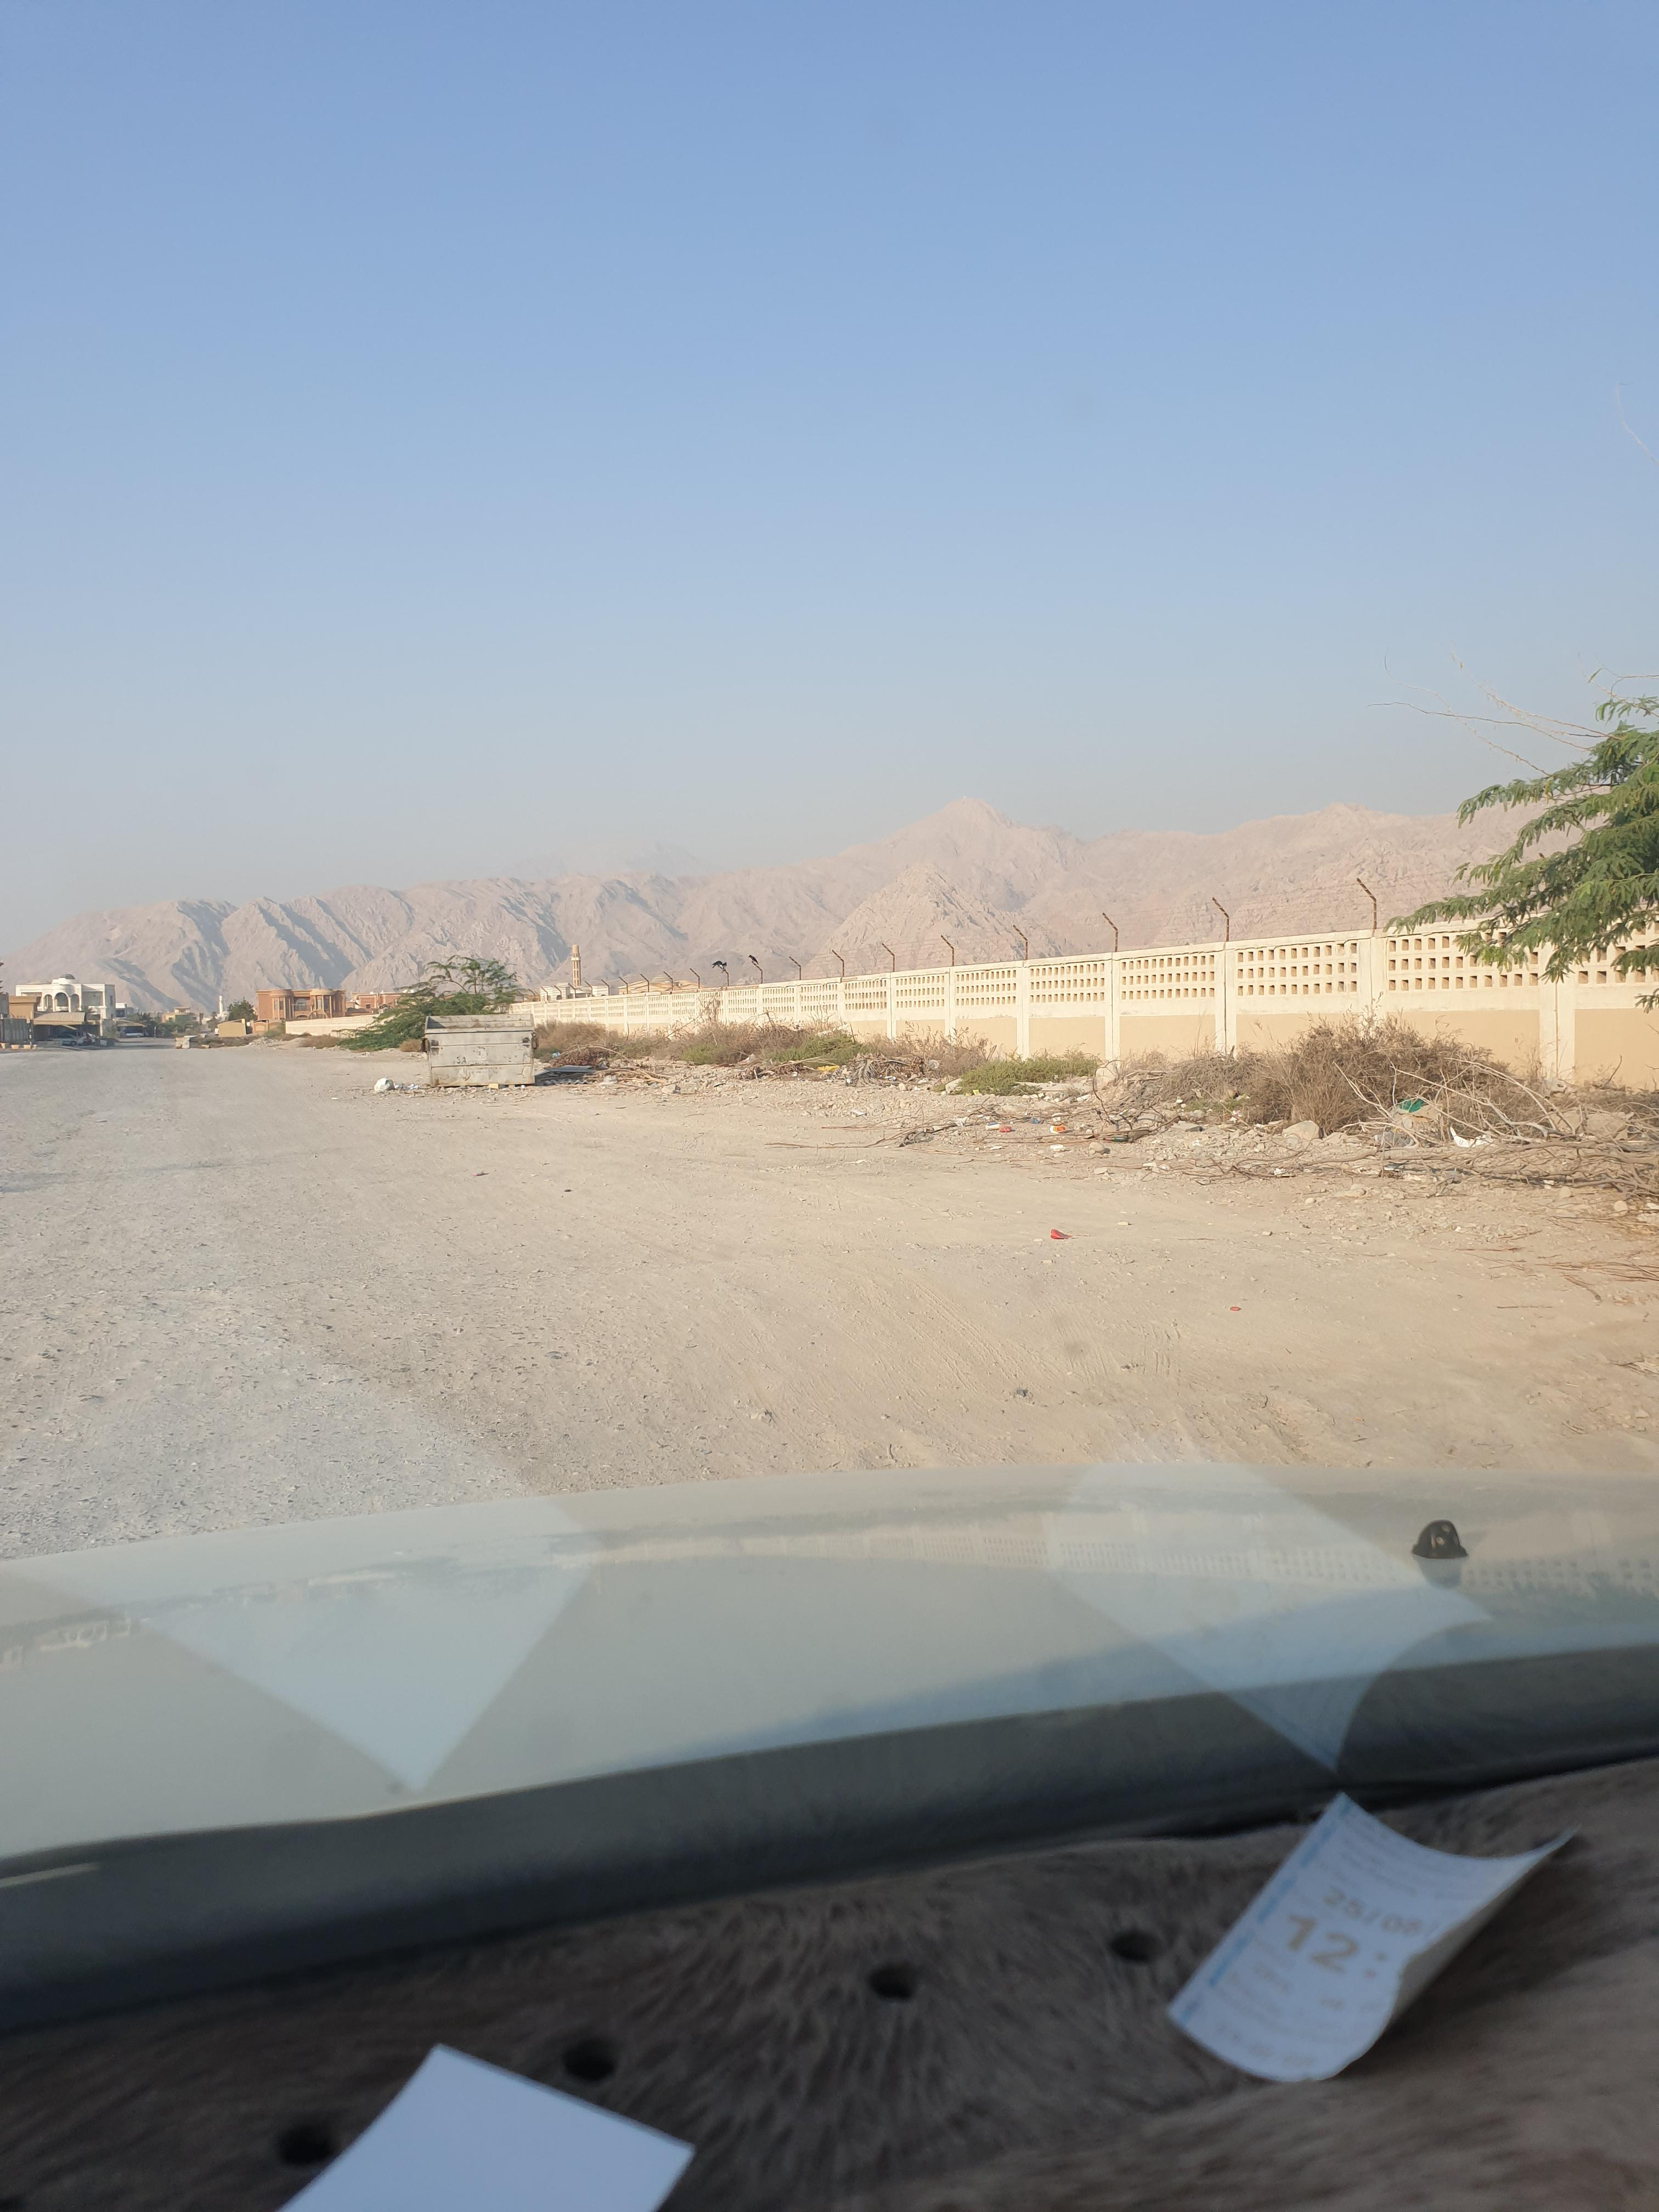fallen_trees: (1377, 1141, 1619, 1207), (775, 1104, 985, 1165), (983, 1101, 1168, 1157), (1154, 1141, 1333, 1195), (545, 1035, 676, 1089), (824, 1052, 929, 1101), (728, 1052, 817, 1092)
uncollected_waste: (366, 1071, 460, 1097)
